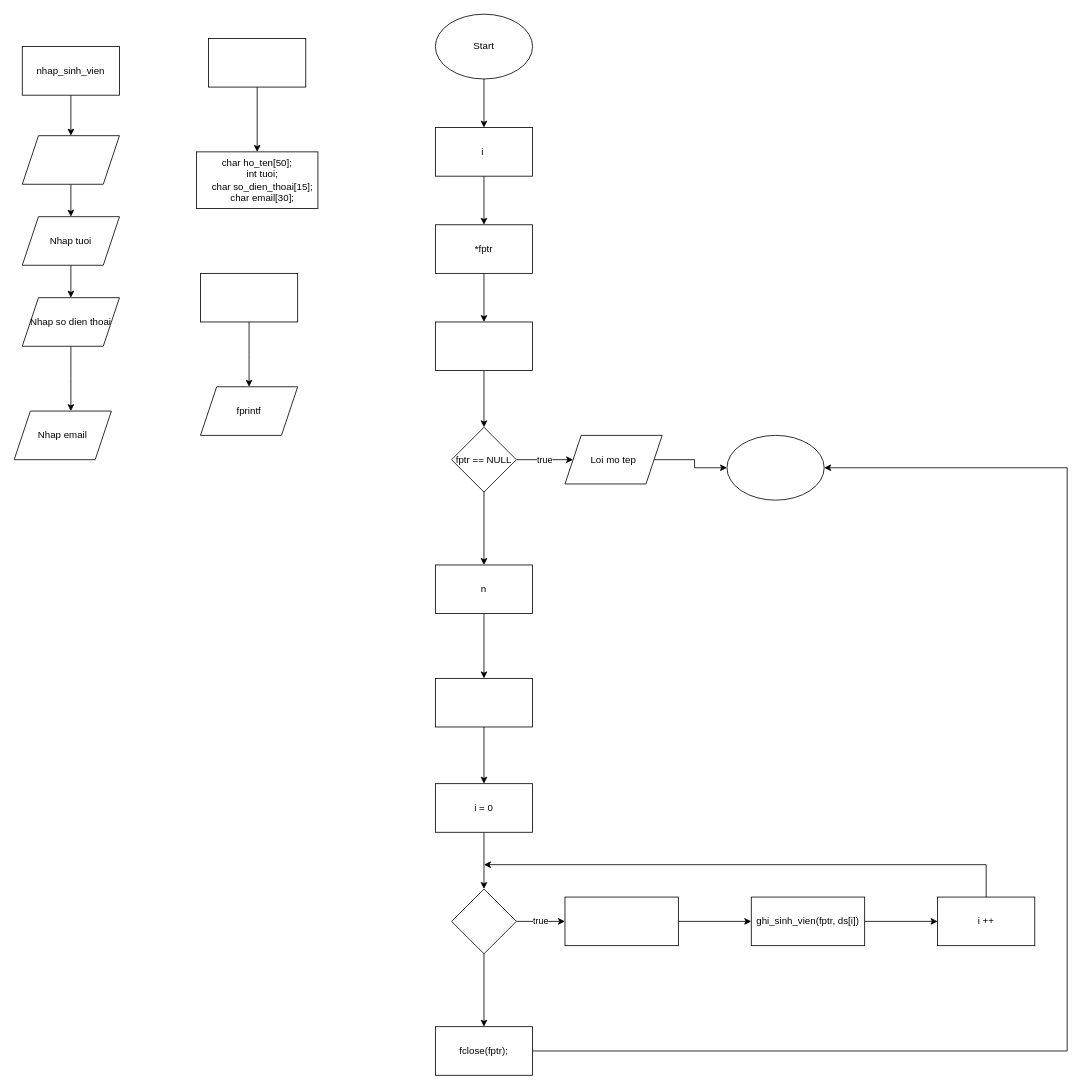
Some shapes in this 1088 by 1089 pixel diagram are drawn without their labels. Here are the shapes that lost their labels. From the top down, the centre of each, then its label:
[257,62]: struct sinh_vien
[70,159]: "Nhap ho ten
[249,297]: ghi_sinh_vien(
[484,346]: fptr = fopen
[775,467]: End
[484,702]: struct sinh_vien ds[n]
[483,921]: i < n
[621,921]: nhap_sinh_vien(&ds[i])
